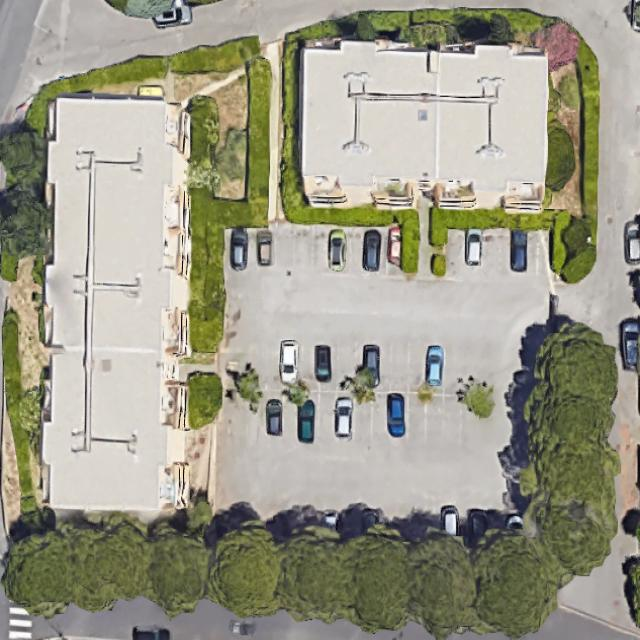immeuble: (41, 93, 188, 509), (297, 40, 549, 212)
